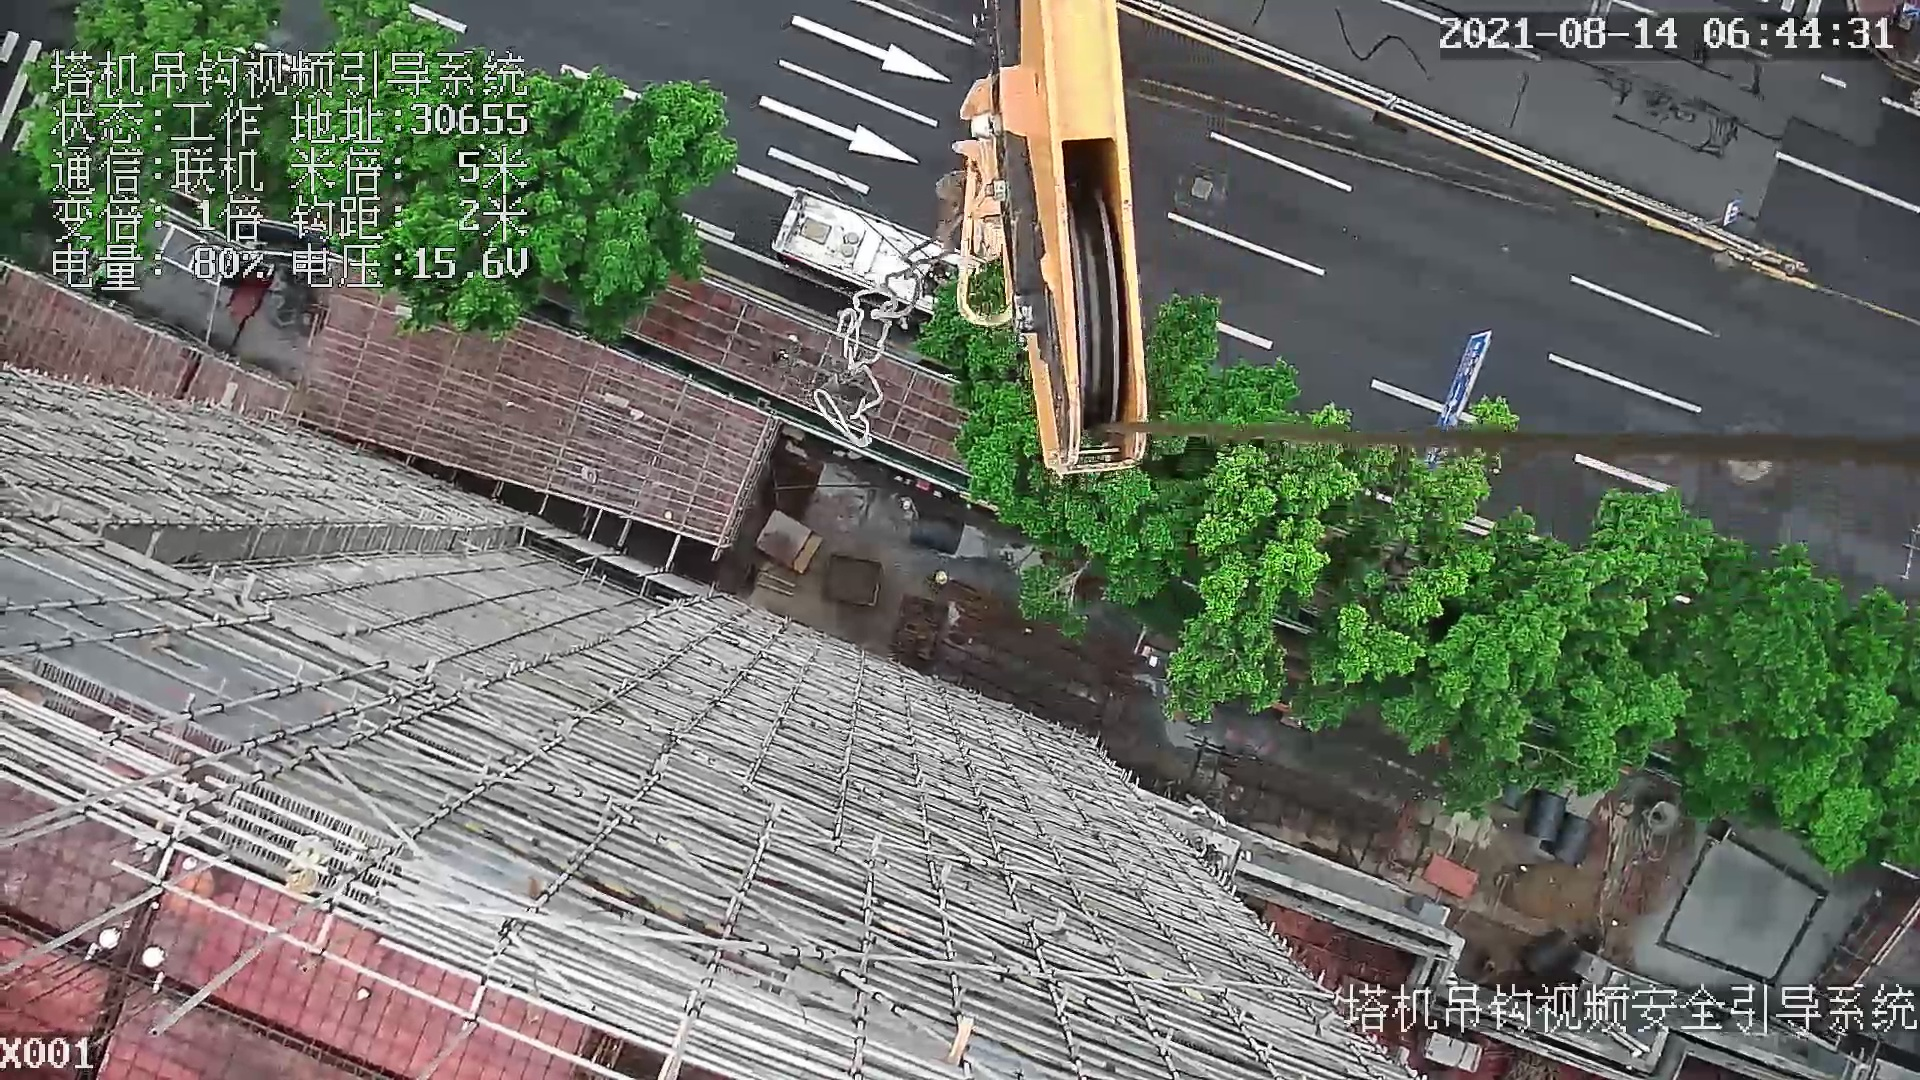hook: (932, 10, 1154, 473)
person: (897, 492, 920, 525)
